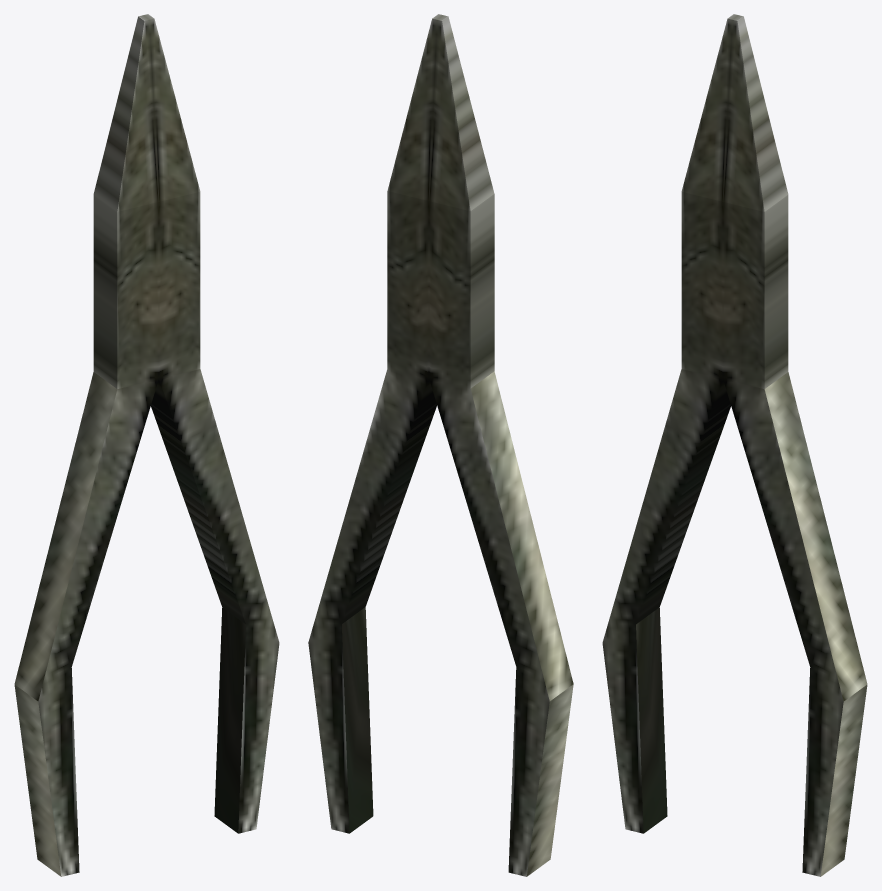
Rendered from tool_pliers.fbx.
The picture shows the model from 3 angles, left to right: view 1: azimuth 30°, elevation 25°; view 2: azimuth 150°, elevation 25°; view 3: azimuth 330°, elevation 25°; orthographic projection.
Visible parts, largest first — view 1: Plires.001; view 2: Plires.001; view 3: Plires.001.
Boxes of the visible parts, bbox=[...] form: Plires.001: bbox=[14, 14, 279, 876]; Plires.001: bbox=[308, 14, 573, 876]; Plires.001: bbox=[602, 14, 867, 876].
Bounding box in the file's own units: 71.52 × 234 × 12.25.
1 material, 1 textured.
